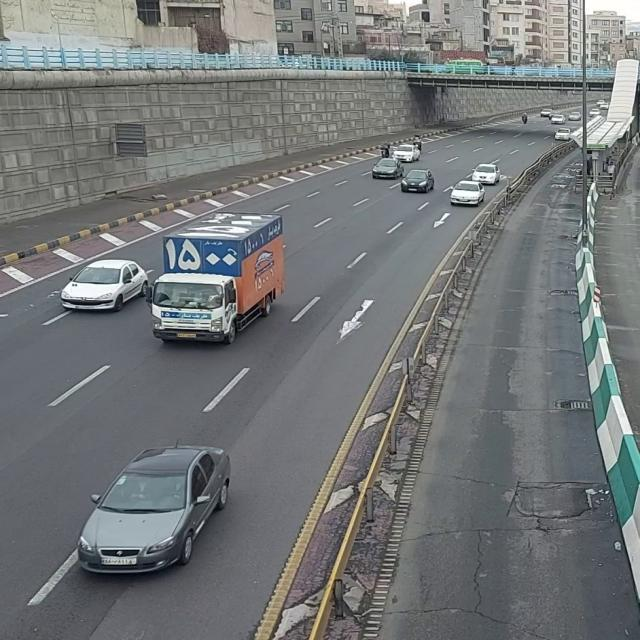Car: (72, 437, 238, 587), (57, 253, 145, 315), (447, 175, 489, 209)
Truck: (145, 206, 295, 356)
